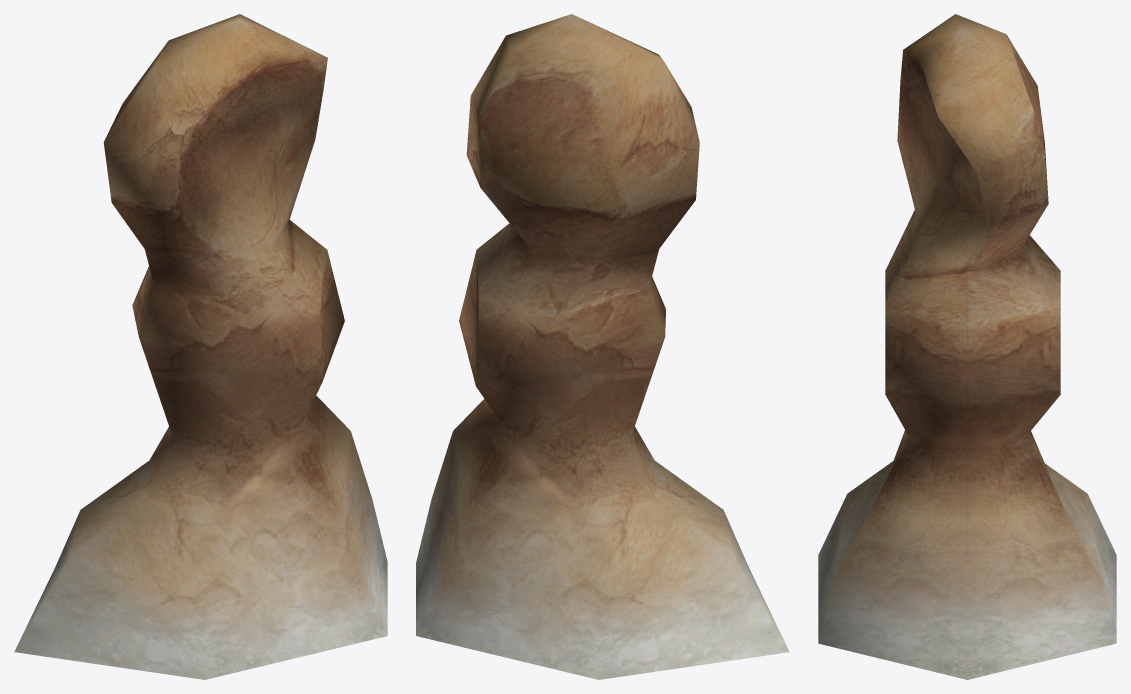
The model's file is karakoram_saltrock.glb.
3 views of the same model, side by side, from view 1: azimuth 30°, elevation 25°; view 2: azimuth 150°, elevation 25°; view 3: azimuth 270°, elevation 25° (orthographic).
Visible parts, largest first — view 1: st_saltrock01; view 2: st_saltrock01; view 3: st_saltrock01.
Boxes of the visible parts, <box> form: st_saltrock01: <box>14,14,387,679</box>; st_saltrock01: <box>416,14,789,679</box>; st_saltrock01: <box>818,14,1116,679</box>.
Bounding box in the file's own units: 15.77 × 23.5 × 11.03.
Materials: 1 (1 with a texture image).
